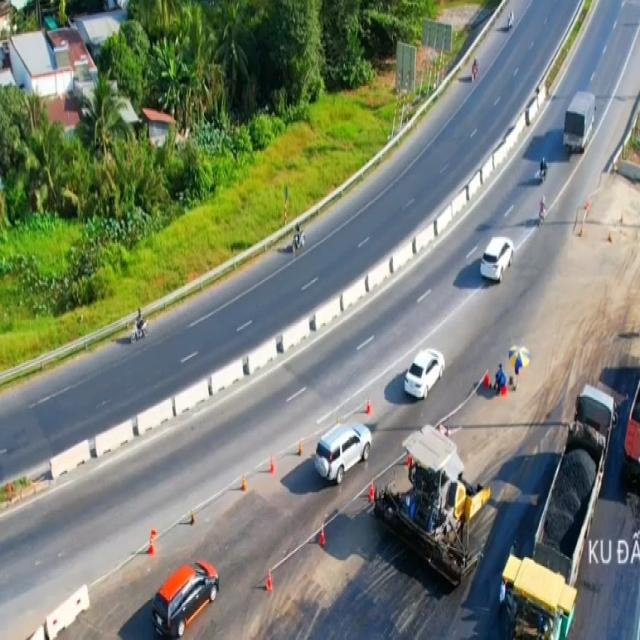car: (151, 554, 219, 640), (315, 416, 373, 482), (403, 346, 446, 399), (478, 233, 514, 285)
motorbike: (134, 309, 148, 343), (292, 222, 306, 256), (536, 197, 549, 229), (536, 153, 549, 184)
truck: (562, 89, 597, 156)
